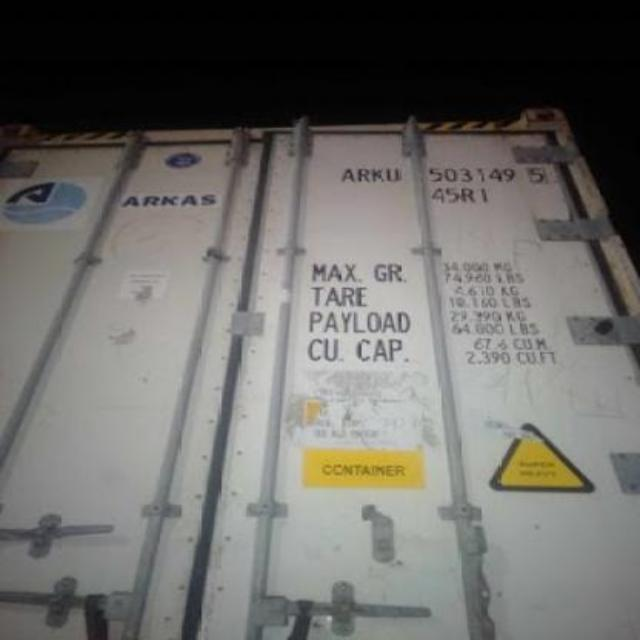0: (446, 168, 458, 182)
1: (474, 168, 486, 182)
3: (458, 168, 474, 182)
4: (488, 168, 502, 182)
5: (428, 168, 444, 182), (530, 168, 546, 182)
9: (502, 168, 516, 182)
A: (342, 168, 356, 182)
K: (370, 168, 386, 182)
R: (358, 168, 372, 182)
U: (388, 168, 400, 182)
